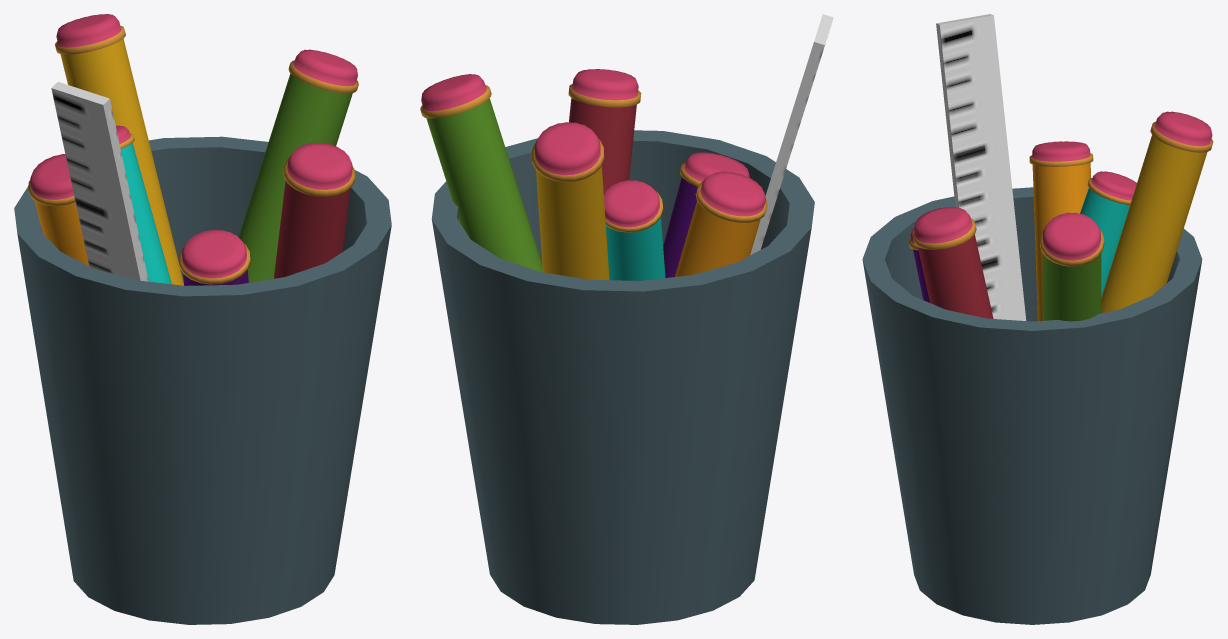
Rendered from estuche.glb.
The picture shows the model from 3 angles, left to right: view 1: azimuth 30°, elevation 25°; view 2: azimuth 150°, elevation 25°; view 3: azimuth 270°, elevation 25°; orthographic projection. The views are drawn at different scales.
Parts seen in each view (by area): view 1: pCylinder8; view 2: pCylinder8; view 3: pCylinder8.
Part boxes in pixels (x1,y1,x2,y2): pCylinder8: [14, 14, 391, 624]; pCylinder8: [420, 14, 833, 624]; pCylinder8: [862, 14, 1213, 624].
Bounding box in the file's own units: 8.84 × 13.2 × 8.62.
Materials: 1 (1 with a texture image).
